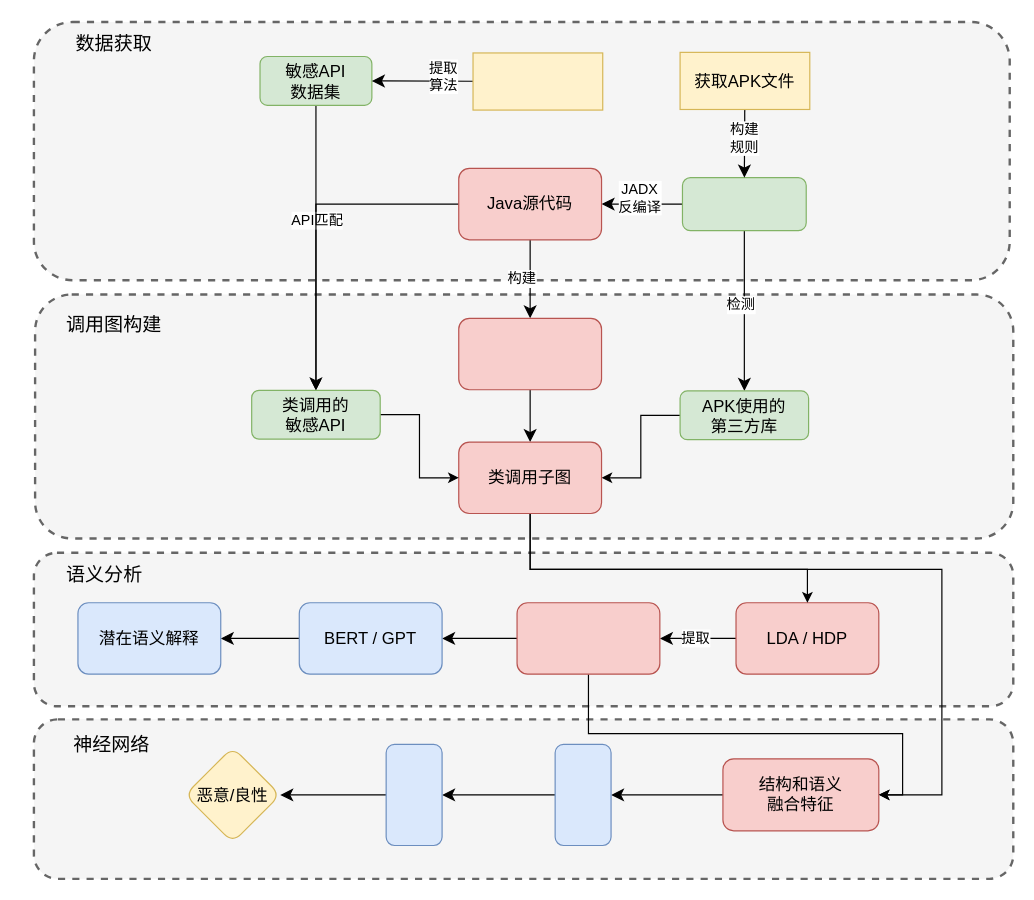
This 1034x900 diagram has some shape labels left out. Here are the shapes that lost their labels. From the top down, the centre of each, then its label:
At [537,81]: "AOSP".
At [743,203]: "APK数据集".
At [530,353]: "类调用图".
At [588,638]: "潜在语义主题".
At [413,794]: "CNN".
At [582,794]: "GAT".
